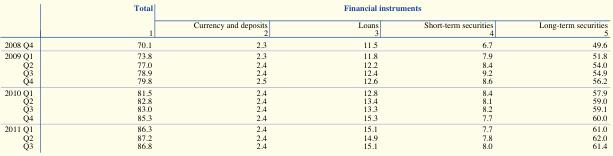table: (3, 4, 607, 150)
table column: (172, 4, 312, 150), (400, 4, 515, 150), (515, 4, 607, 150), (82, 4, 172, 150), (312, 4, 400, 150), (21, 4, 82, 150), (3, 4, 21, 150)
table column header: (3, 4, 607, 38)
table row: (3, 16, 607, 38), (3, 4, 607, 16), (3, 38, 607, 50), (3, 50, 607, 60), (3, 77, 607, 87), (3, 87, 607, 97), (3, 113, 607, 123), (3, 123, 607, 133), (3, 68, 607, 77), (3, 141, 607, 150), (3, 60, 607, 68), (3, 97, 607, 105), (3, 105, 607, 113), (3, 133, 607, 141)
table spanning cell: (172, 4, 607, 16), (82, 4, 172, 38), (3, 50, 21, 87), (3, 87, 21, 123), (3, 123, 21, 150)
